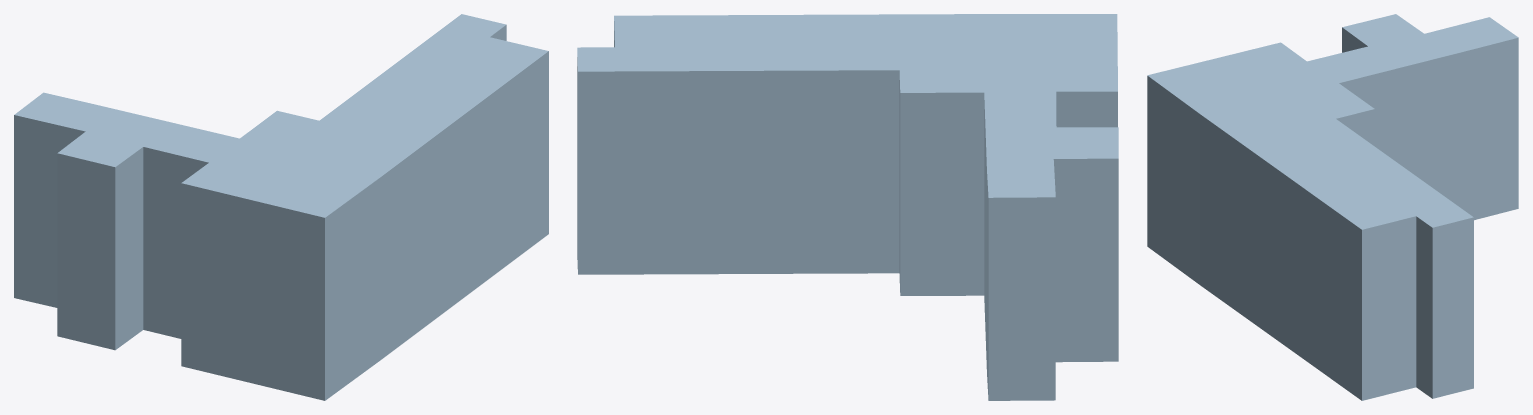
File: osm_way_225251648.glb
3 renders of one model, left to right at view 1: azimuth 30°, elevation 25°; view 2: azimuth 150°, elevation 25°; view 3: azimuth 270°, elevation 25°, orthographic. The views are drawn at different scales.
Visible parts, largest first — view 1: osm_way_225251648; view 2: osm_way_225251648; view 3: osm_way_225251648.
Part boxes in pixels (bbox=[...]): osm_way_225251648: bbox=[14, 14, 548, 400]; osm_way_225251648: bbox=[577, 14, 1118, 400]; osm_way_225251648: bbox=[1147, 14, 1518, 400].
Size of the model in its own units: 51.94 by 19.2 by 37.79.
